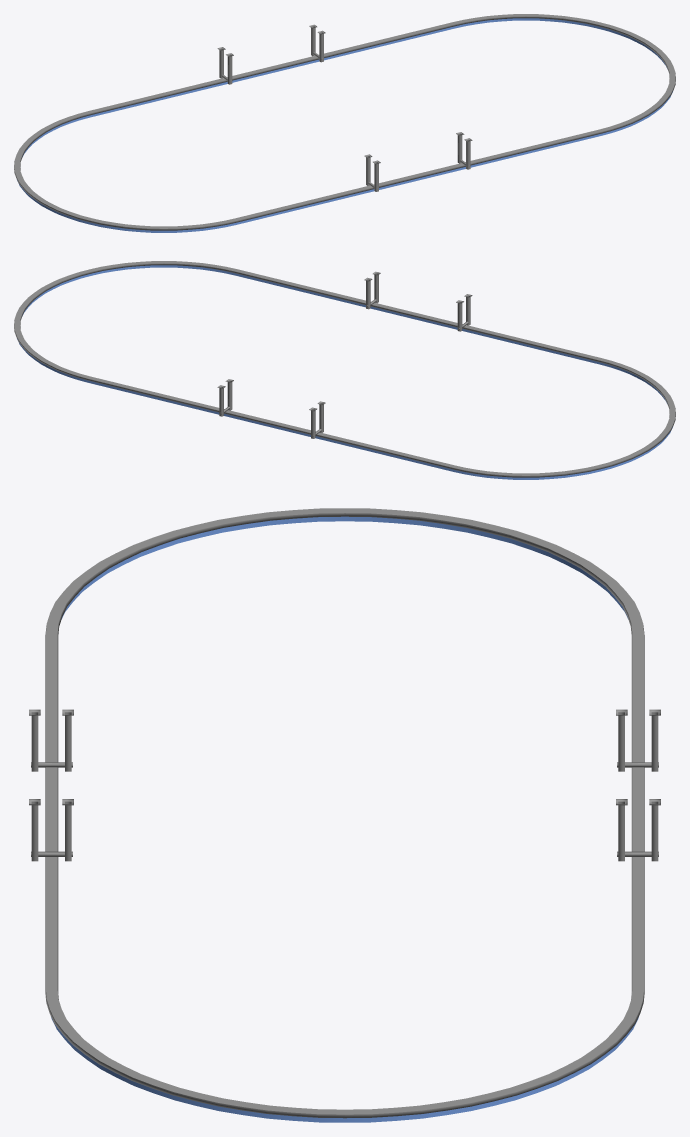
Rendered from SM_Light_A.FBX.
3 views of the same model, one above another, from view 1: azimuth 30°, elevation 25°; view 2: azimuth 150°, elevation 25°; view 3: azimuth 270°, elevation 25° (orthographic). The views are drawn at different scales.
Parts seen in each view (by area): view 1: Object221; view 2: Object221; view 3: Object221.
Boxes of the visible parts, left/top/right/bottom form: Object221: left=14, top=14, right=675, bottom=232; Object221: left=14, top=261, right=675, bottom=479; Object221: left=29, top=508, right=660, bottom=1122.
Bounding box in the file's own units: 979 × 47.53 × 431.
